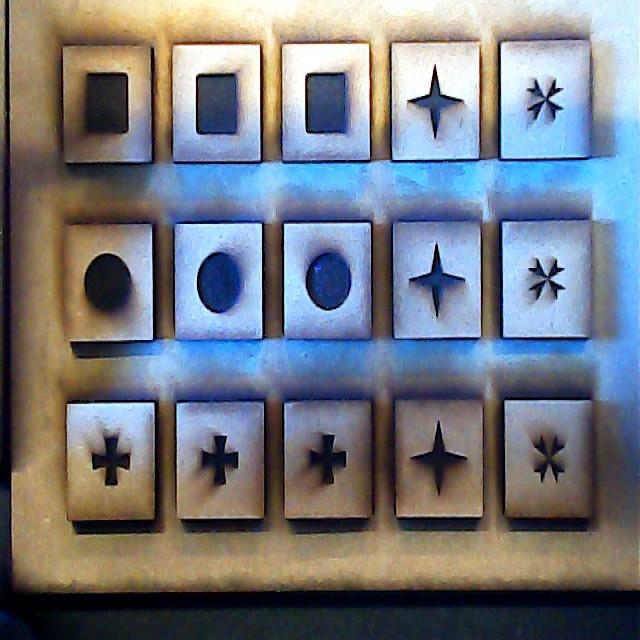circle: (174, 218, 263, 342), (285, 222, 374, 340), (65, 226, 154, 340)
maltese: (504, 400, 598, 519), (503, 218, 595, 337), (500, 42, 590, 158)
square: (63, 43, 155, 163), (173, 42, 263, 163), (282, 45, 371, 165)
star: (393, 220, 483, 340), (393, 43, 480, 164), (396, 400, 485, 516)
temple: (283, 400, 376, 525), (68, 400, 158, 529), (175, 401, 267, 526)
